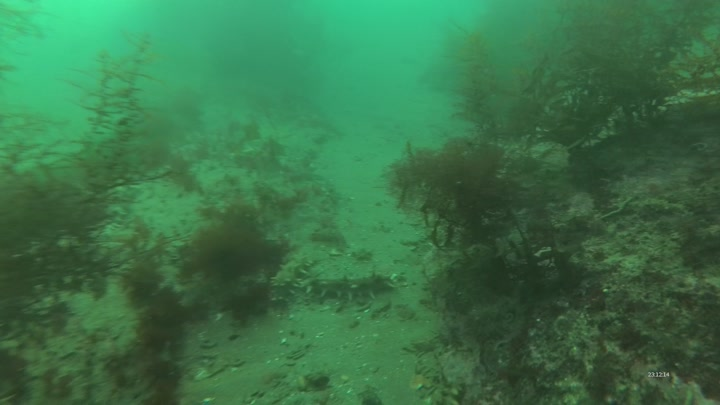holothurian: (299, 269, 399, 303), (268, 252, 317, 306)
